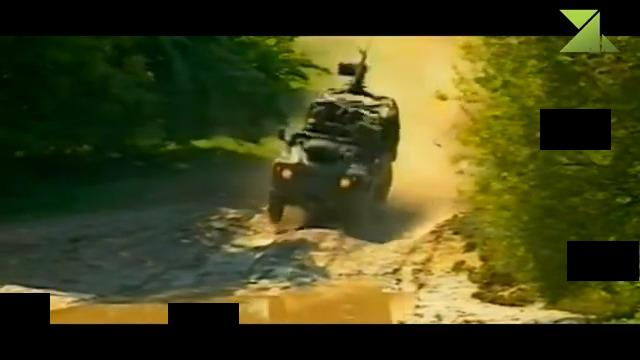MIL_HMMWV: (267, 89, 401, 225)
